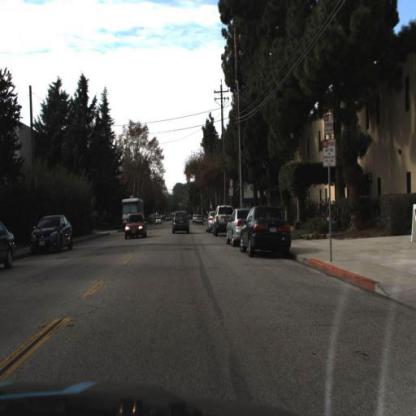car: (240, 206, 293, 266), (29, 211, 73, 258), (169, 206, 195, 240), (1, 218, 17, 272), (226, 206, 243, 252), (124, 213, 149, 243), (213, 203, 233, 239), (206, 207, 218, 234)
truck: (120, 195, 146, 235)
